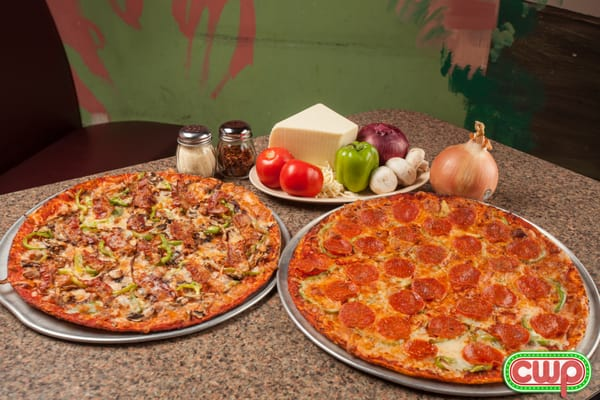curry: (1, 107, 599, 390)
sandwich: (286, 190, 591, 386), (7, 165, 282, 333)
